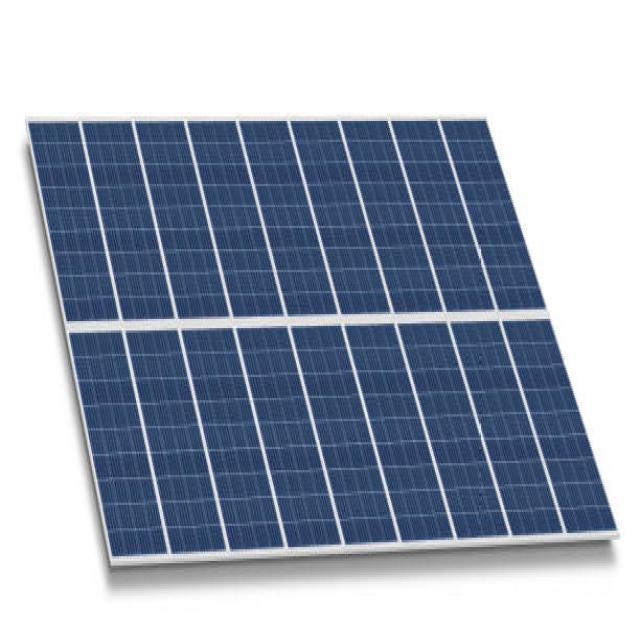no faulty: (28, 114, 620, 562)
